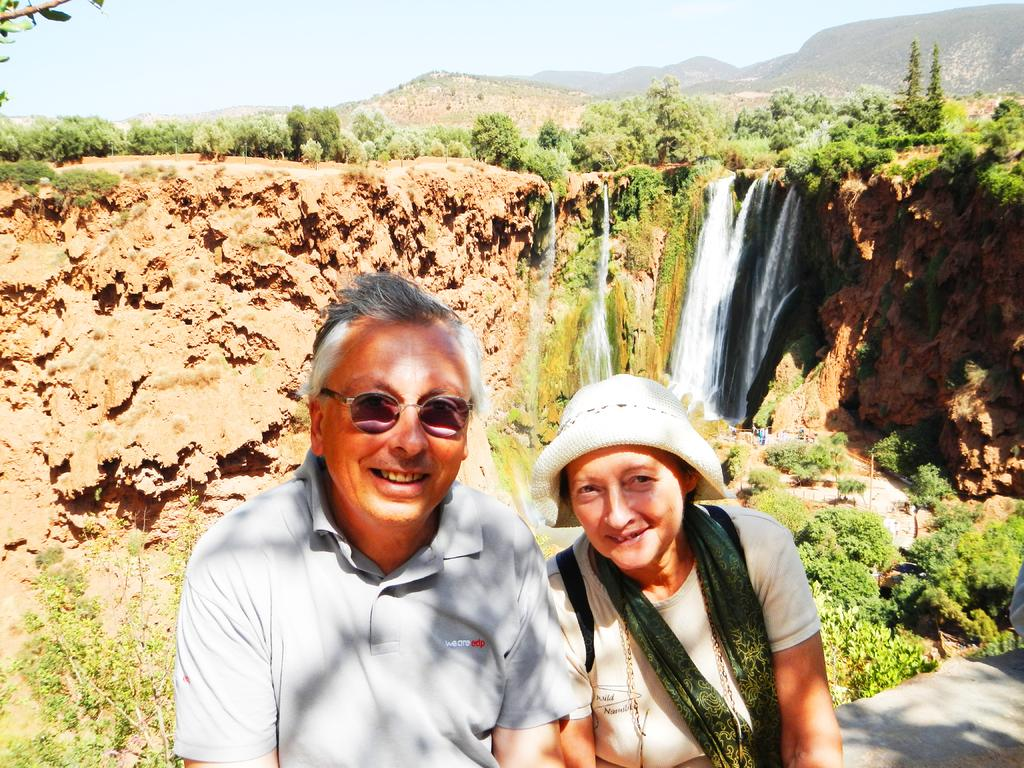Hat: (526, 372, 730, 532)
